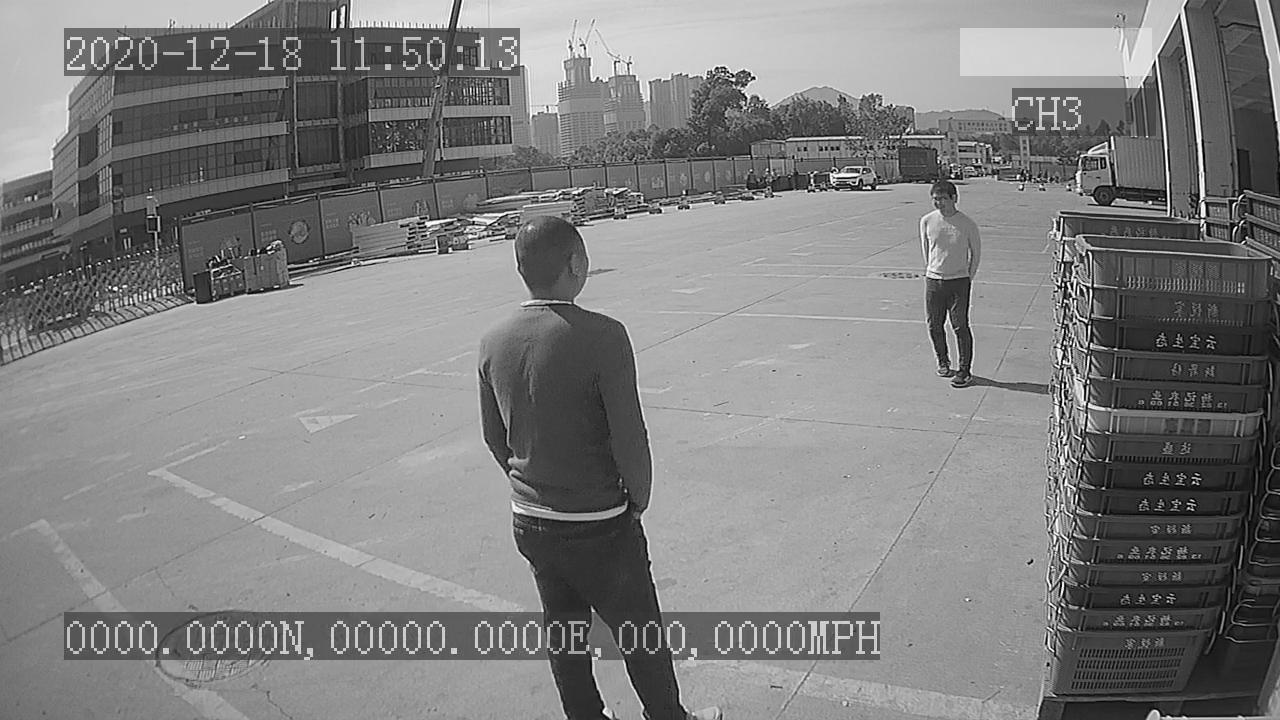person: (911, 177, 988, 394)
